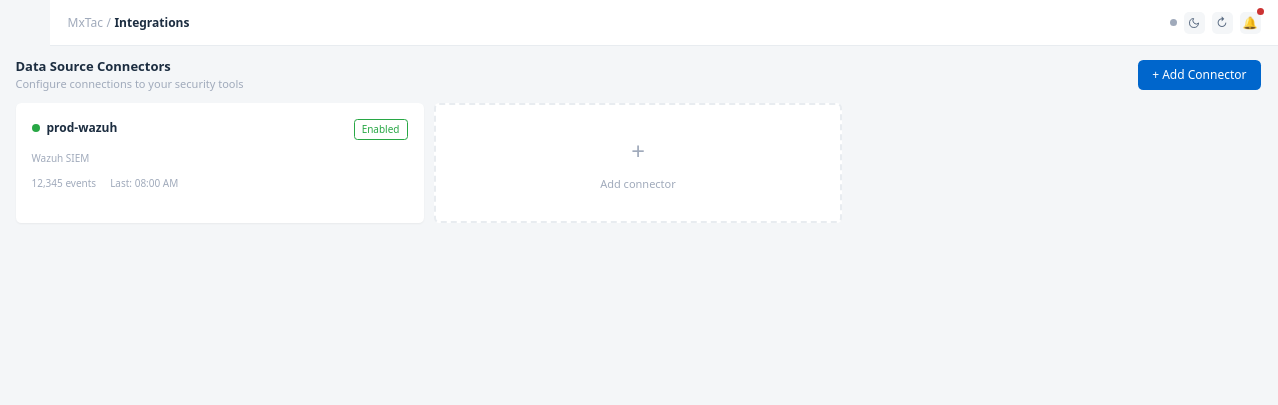
Scenario: ConnectorsPage › card selection / detail panel › clicking a card reveals the detail panel
This screenshot has width=1278, height=405.
Click the text "prod-wazuh" at (82, 128), box [46,119,117,137]
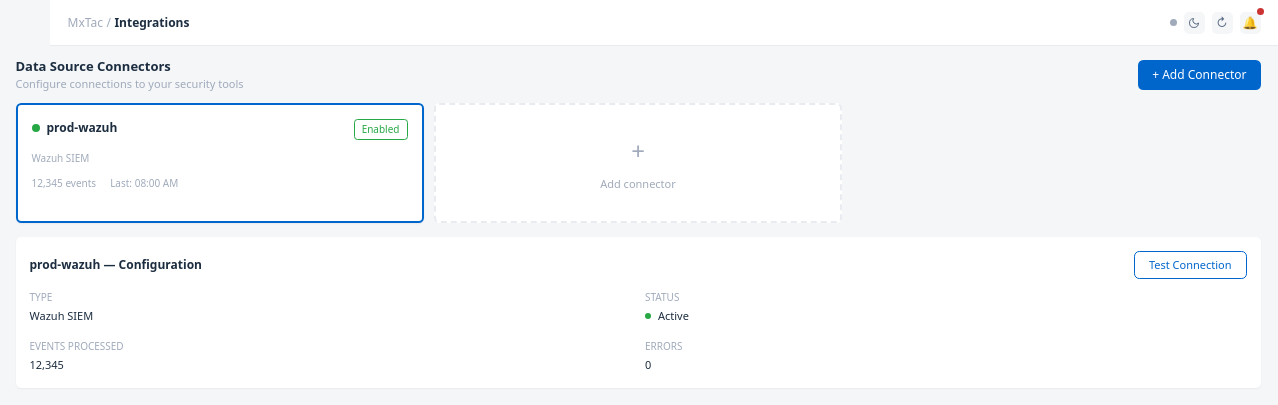
Check: the heading "prod-wazuh — Configuration" is shown, box [30,256,202,274]
